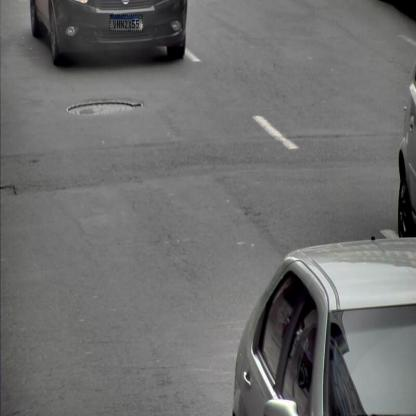PlacaM: (110, 15, 143, 31)
